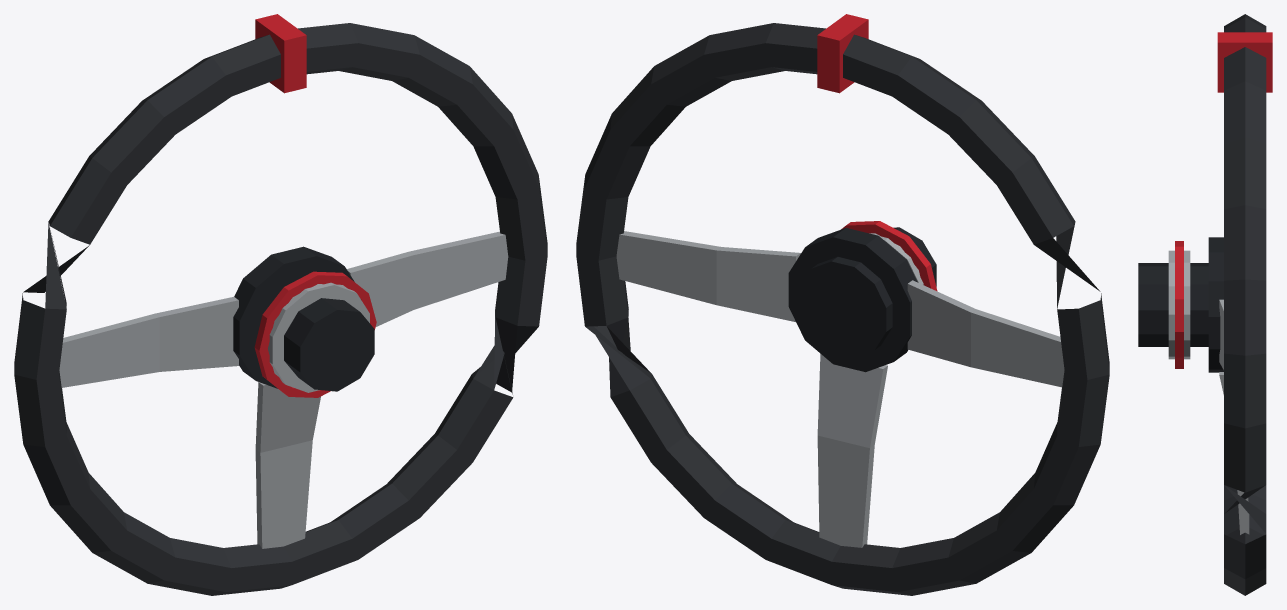
File: vortex_r.glb
3 views of the same model, side by side, from view 1: azimuth 30°, elevation 25°; view 2: azimuth 150°, elevation 25°; view 3: azimuth 270°, elevation 25° (orthographic). The views are drawn at different scales.
Visible parts, largest first — view 1: model; view 2: model; view 3: model.
Part boxes in pixels (x1=…): model: x1=14, y1=14, x2=547, y2=595; model: x1=576, y1=14, x2=1109, y2=595; model: x1=1138, y1=14, x2=1272, y2=595.
Size of the model in its own units: 0.382 by 0.384 by 0.088.
Materials: 3 (1 with a texture image).
